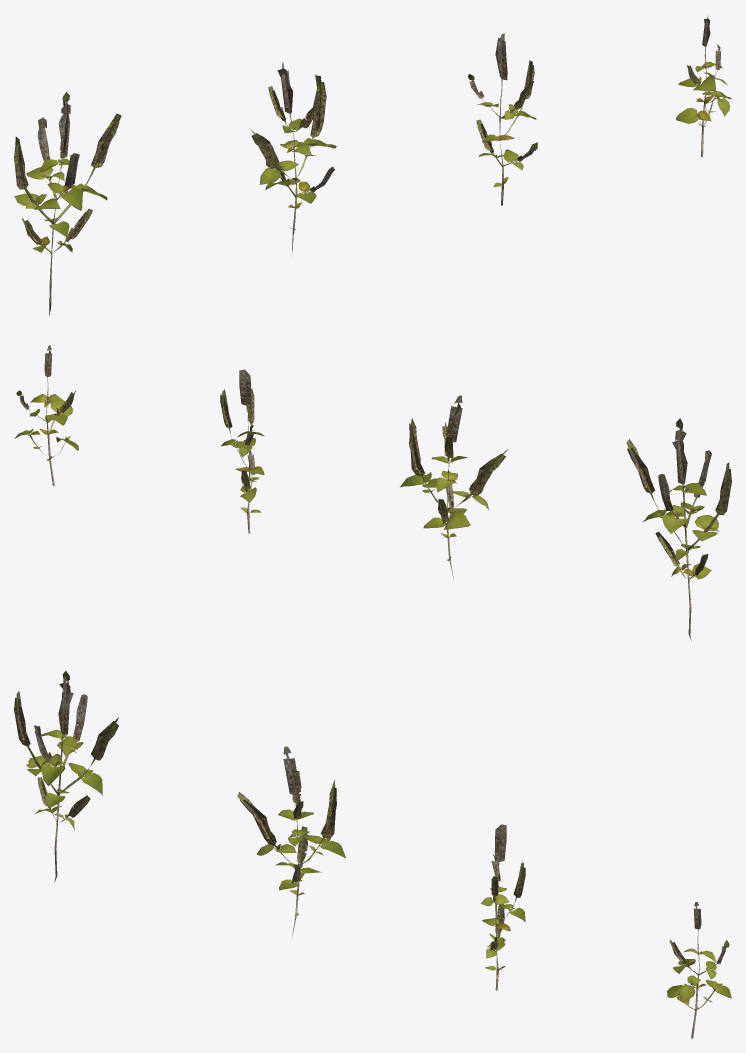
The model's file is shrub_03.glb.
3 views of the same model, one above another, from view 1: azimuth 30°, elevation 25°; view 2: azimuth 150°, elevation 25°; view 3: azimuth 330°, elevation 25° (orthographic). The views are drawn at different scales.
Visible parts, largest first — view 1: shrub_03_a, shrub_03_b, shrub_03_c, shrub_03_d; view 2: shrub_03_a, shrub_03_b, shrub_03_c, shrub_03_d; view 3: shrub_03_a, shrub_03_b, shrub_03_c, shrub_03_d.
Part boxes in pixels (bbox=[...]): shrub_03_a: bbox=[14, 91, 121, 315]; shrub_03_b: bbox=[249, 62, 336, 252]; shrub_03_c: bbox=[468, 33, 537, 205]; shrub_03_d: bbox=[676, 16, 731, 156]; shrub_03_a: bbox=[626, 418, 731, 640]; shrub_03_b: bbox=[400, 395, 507, 580]; shrub_03_c: bbox=[220, 369, 264, 533]; shrub_03_d: bbox=[14, 345, 78, 485]; shrub_03_a: bbox=[14, 670, 118, 882]; shrub_03_b: bbox=[237, 746, 345, 939]; shrub_03_c: bbox=[481, 824, 525, 990]; shrub_03_d: bbox=[667, 902, 731, 1038].
Size of the model in its own units: 1.37 by 0.4028 by 0.1512.
1 material, 1 textured.
